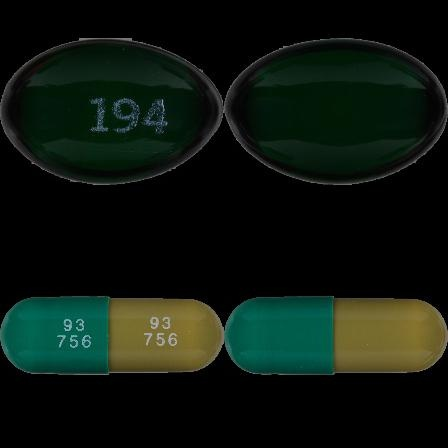69189-0737: (0, 0, 224, 224)
